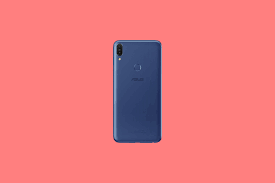asus: (109, 37, 165, 146)
